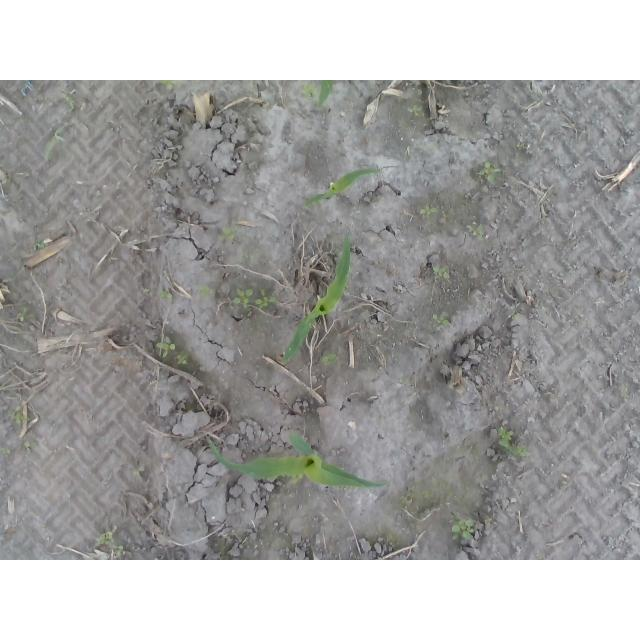Maize: (203, 431, 392, 490), (284, 233, 352, 364), (304, 167, 381, 209)
Weeds: (500, 426, 533, 458), (45, 124, 71, 162), (96, 532, 128, 558), (477, 161, 503, 185), (453, 518, 476, 542), (254, 290, 278, 312), (8, 408, 29, 428), (234, 287, 254, 307), (157, 337, 176, 356), (220, 225, 240, 243), (59, 91, 75, 113), (302, 81, 318, 99), (17, 307, 36, 322), (420, 205, 440, 219), (435, 265, 452, 279), (161, 82, 187, 91), (433, 314, 452, 326), (469, 225, 484, 239), (129, 465, 143, 479), (199, 285, 213, 299), (160, 290, 177, 300), (25, 443, 39, 454), (320, 356, 336, 365), (409, 107, 422, 117), (399, 378, 413, 387), (179, 354, 188, 366), (509, 313, 520, 319), (243, 254, 250, 263), (38, 240, 45, 249)
